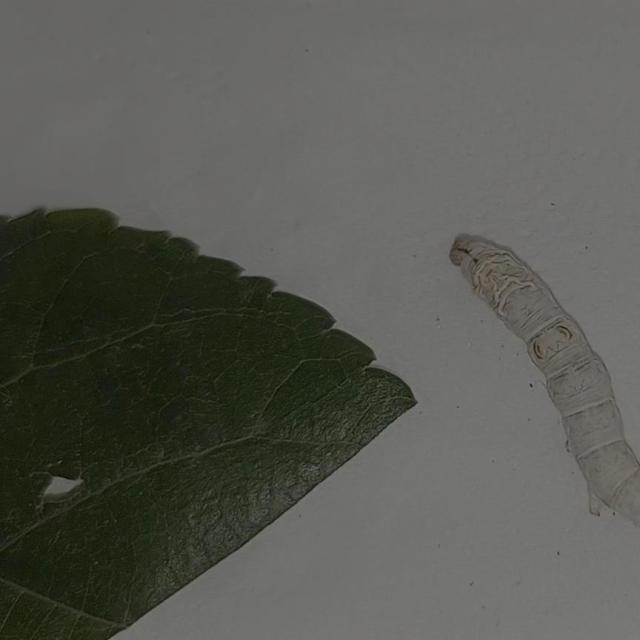Healthy: (409, 178, 640, 538)
